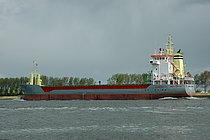Ship: (16, 33, 201, 103)
